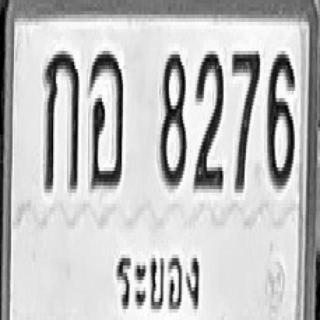A01: (43, 49, 78, 191)
A43: (88, 49, 123, 187)
N02: (193, 51, 224, 189)
N06: (266, 51, 294, 189)
N07: (232, 49, 260, 191)
N08: (159, 51, 186, 185)
P53: (111, 244, 203, 320)
